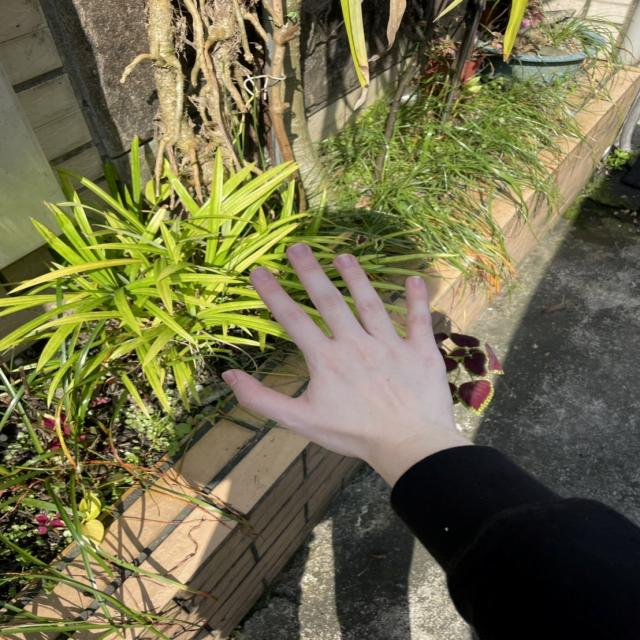no_glove: (208, 233, 464, 481)
